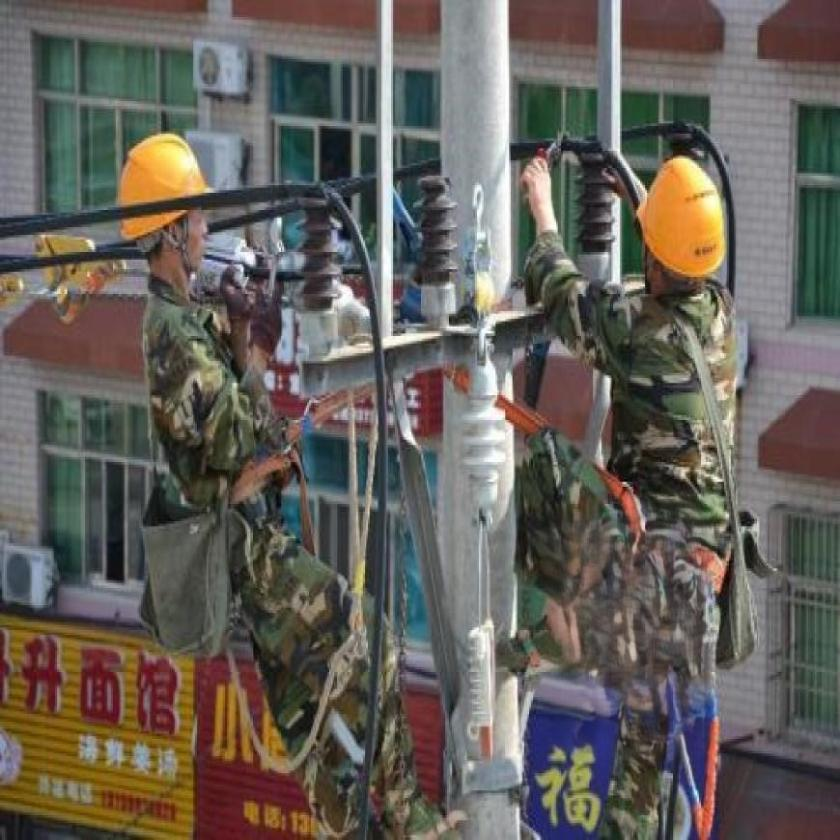Con_casco: (108, 127, 217, 284)
